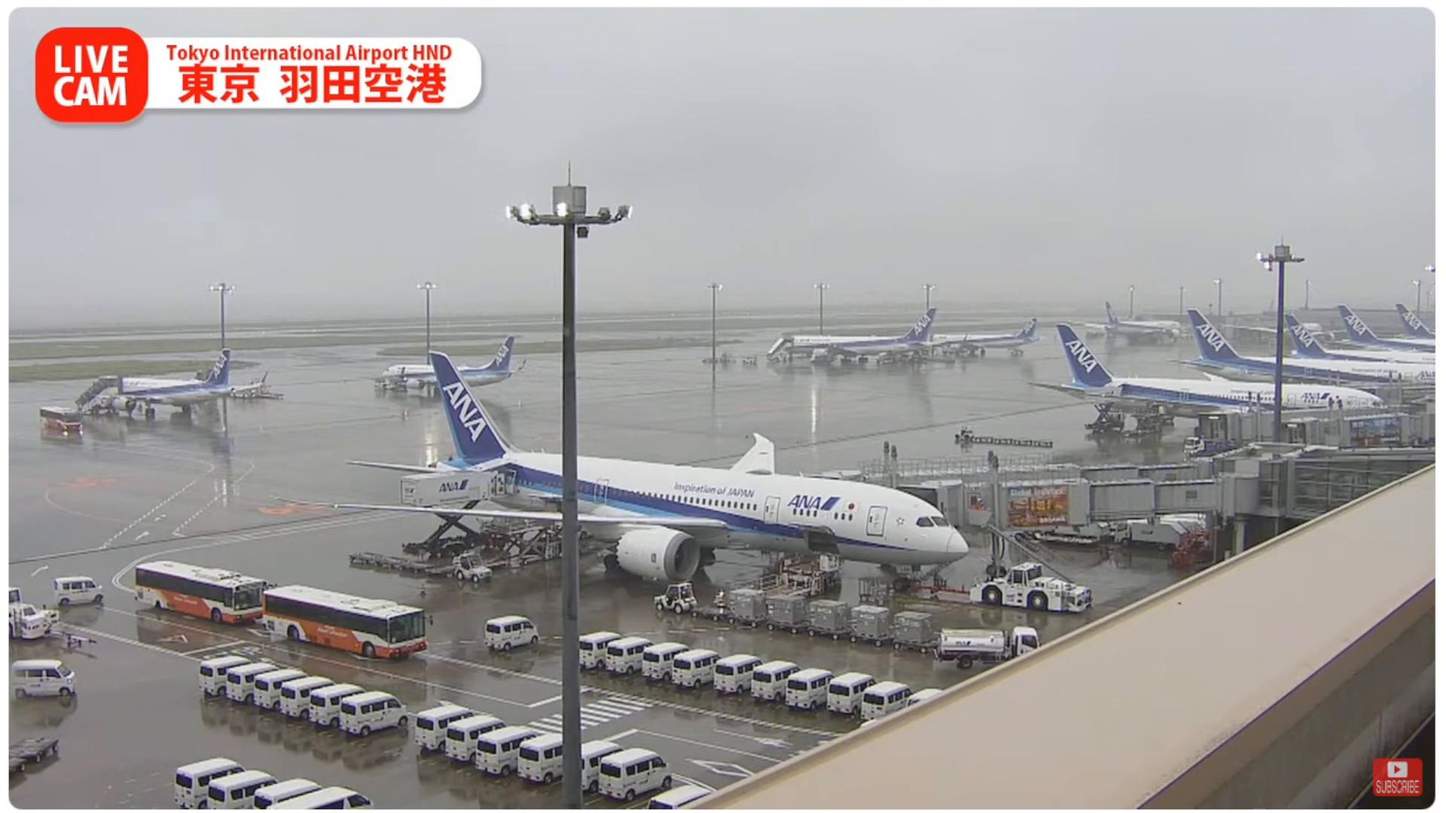APS: (969, 561, 1094, 613)
Aerobridge: (894, 450, 1258, 584), (795, 442, 1213, 488)
Airplane: (333, 353, 970, 591)
Catering: (398, 468, 511, 557)
Dolly: (686, 603, 943, 656), (347, 550, 461, 582)
JCPL: (709, 550, 843, 609), (479, 520, 565, 569)
Tractor: (655, 583, 700, 614), (454, 549, 495, 583)
ULD: (894, 609, 937, 645), (850, 603, 893, 639), (811, 598, 850, 630), (731, 586, 768, 619), (772, 594, 810, 625), (491, 506, 545, 526)
Window: (1294, 452, 1436, 516)
